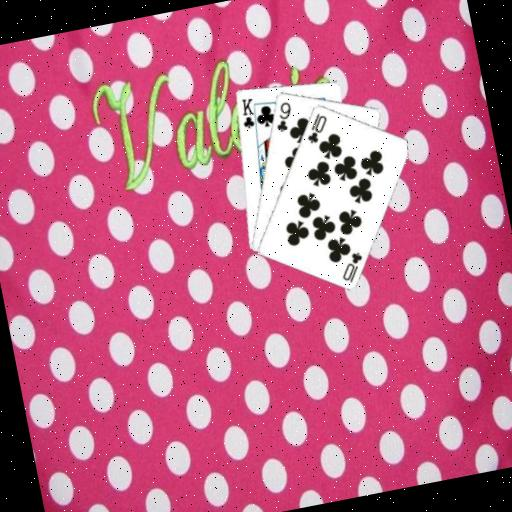10C: (335, 248, 368, 286), (300, 109, 333, 146)
9C: (269, 97, 297, 135)
KC: (236, 94, 263, 135)
